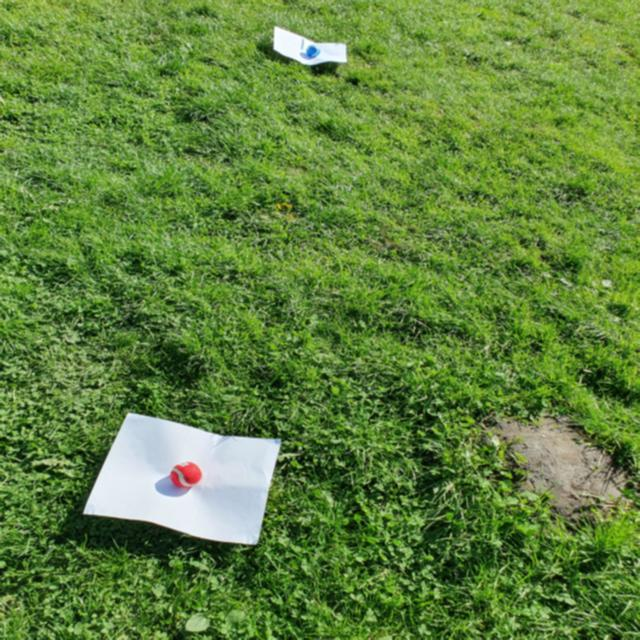blue: (306, 44, 321, 57)
red: (170, 461, 203, 488)
